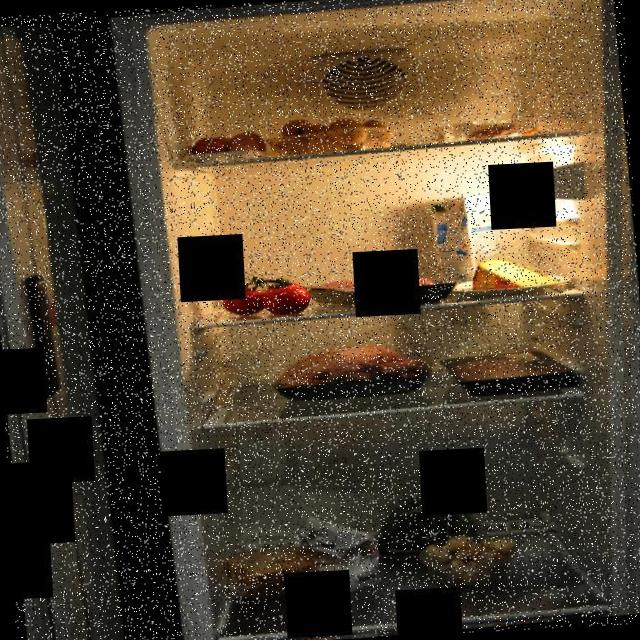Carne pollo: (270, 338, 436, 405), (455, 351, 564, 392)
Carne vacuno: (315, 268, 444, 312)
Champiñones: (422, 532, 522, 588)
Gambas/Langostinos: (434, 114, 548, 146)
Huevos: (188, 127, 266, 164)
Leche: (428, 191, 502, 292)
Patata: (264, 111, 391, 158)
Queso: (472, 252, 562, 296)
Tomate: (212, 270, 312, 320)
bread: (224, 540, 320, 604)
flour: (298, 508, 388, 596)
green_beans: (371, 486, 495, 565)
